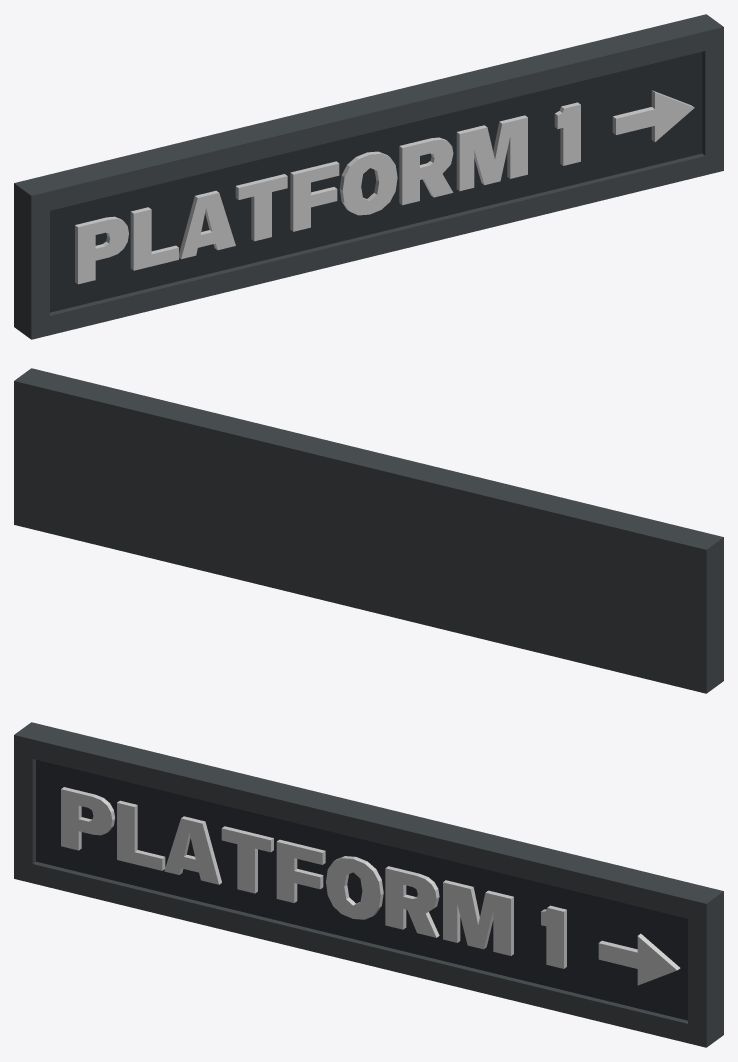
File: Platform_01.fbx
The picture shows the model from 3 angles, top to bottom: view 1: azimuth 30°, elevation 25°; view 2: azimuth 150°, elevation 25°; view 3: azimuth 330°, elevation 25°; orthographic projection.
Parts seen in each view (by area): view 1: Platform_01; view 2: Platform_01; view 3: Platform_01.
Part boxes in pixels (left/top/right/bottom): Platform_01: left=14, top=14, right=723, bottom=339; Platform_01: left=14, top=368, right=723, bottom=693; Platform_01: left=14, top=722, right=723, bottom=1047.
Size of the model in its own units: 162 by 32.16 by 7.1.
